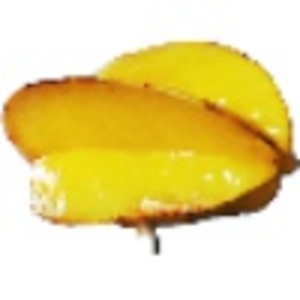carambola: (1, 38, 300, 250)
